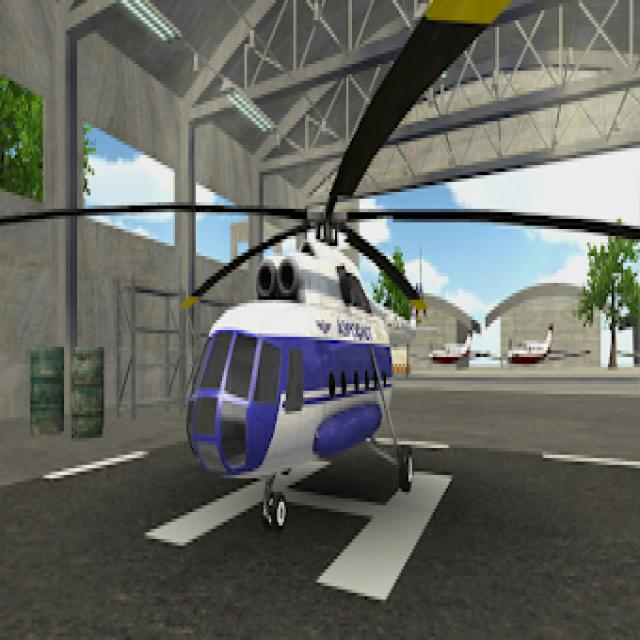helicopter: (1, 1, 640, 496)
